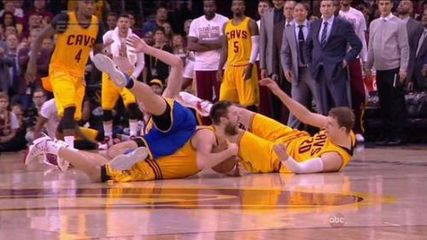10+: (2, 1, 427, 177)
down: (47, 97, 244, 185), (227, 69, 368, 172), (81, 34, 198, 152)
